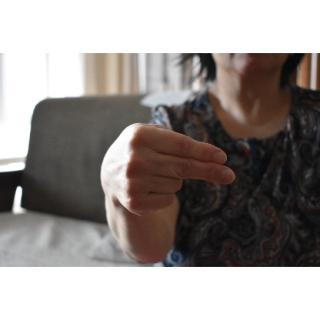AYN: (94, 120, 240, 216)
